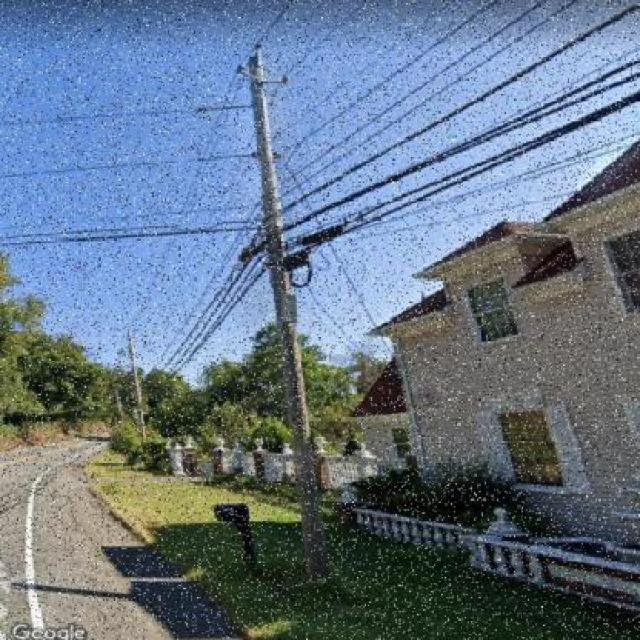pole: (160, 26, 417, 606)
